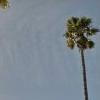Palm tree: (56, 10, 100, 100)
